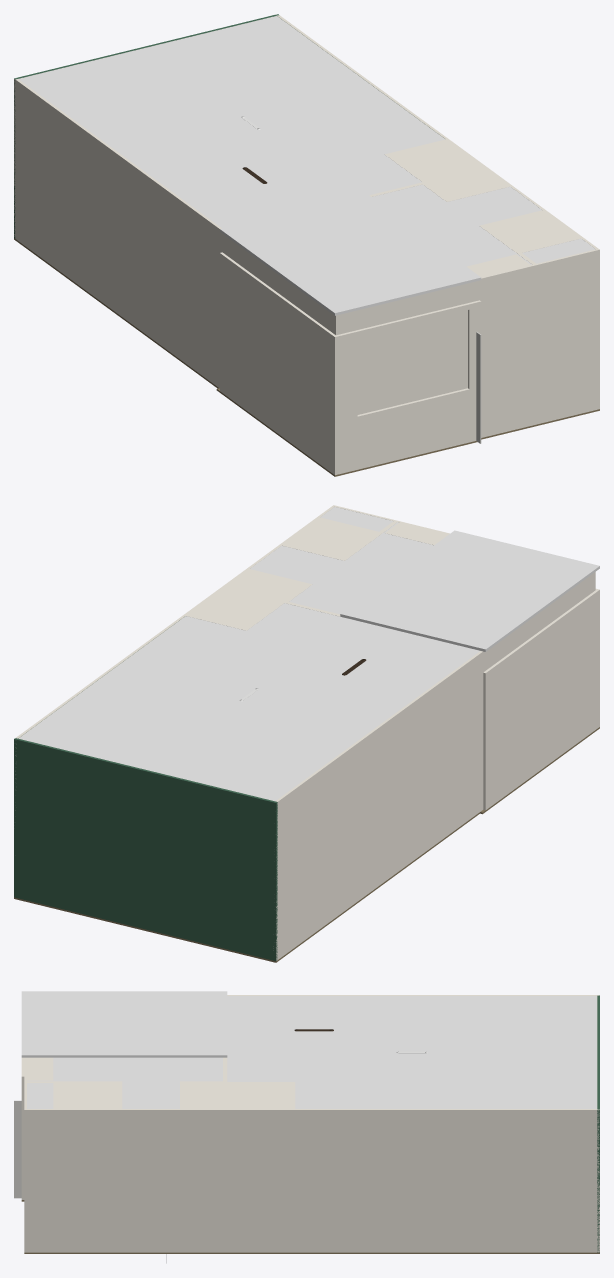
The model's file is huis.glb.
3 views of the same model, one above another, from view 1: azimuth 30°, elevation 25°; view 2: azimuth 150°, elevation 25°; view 3: azimuth 270°, elevation 25° (orthographic). The views are drawn at different scales.
Visible parts, largest first — view 1: EXPORT plafond, BG linkermuur, BG voorgevel, plafond, rechterwand, achterwand, BG kastwand extra, achterwand.003, BG toiletwand, BG kastwand, BG rechtermuur, achterwand.001 (+6 smaller); view 2: EXPORT plafond, BG achtergevel, BG linkermuur, plafond, rechterwand, BG kastwand extra, BG toiletwand, BG kastwand, BG vloer, BG rechtermuur, BG mkwand, BG schoonmaakkastwand v2 (+1 smaller); view 3: BG rechtermuur, EXPORT plafond, plafond, BG kastwand extra, BG kastwand, BG toiletwand, BG vloer, BG schoonmaakkastdeur v2, BG achtergevel, BG schoonmaakkastwand v2, BG mkwand, BG linkermuur.
Part boxes in pixels (x1,y1,x2,y2): EXPORT plafond: (18, 16, 595, 266); BG linkermuur: (14, 79, 338, 388); BG voorgevel: (334, 249, 599, 437); plafond: (220, 193, 481, 315); rechterwand: (220, 252, 339, 474); achterwand: (332, 388, 476, 474); BG kastwand extra: (384, 139, 483, 182); achterwand.003: (332, 337, 357, 421); BG toiletwand: (481, 210, 568, 243); BG kastwand: (423, 167, 509, 200); BG rechtermuur: (276, 14, 599, 409); achterwand.001: (332, 300, 481, 342); EXPORT plafond: (18, 507, 479, 800); BG achtergevel: (14, 738, 277, 960); BG linkermuur: (273, 572, 595, 960); plafond: (340, 530, 599, 651); rechterwand: (483, 589, 599, 810); BG kastwand extra: (186, 588, 283, 630); BG toiletwand: (282, 526, 368, 560); BG kastwand: (224, 569, 308, 602); BG vloer: (14, 812, 479, 962); BG rechtermuur: (15, 505, 335, 810); BG mkwand: (308, 517, 380, 540); BG schoonmaakkastwand v2: (385, 522, 448, 545); BG rechtermuur: (24, 1109, 599, 1252); EXPORT plafond: (27, 996, 596, 1108); plafond: (21, 991, 227, 1057); BG kastwand extra: (227, 1082, 295, 1108); BG kastwand: (180, 1082, 227, 1108); BG toiletwand: (75, 1082, 122, 1108); BG vloer: (24, 1252, 599, 1253); BG schoonmaakkastdeur v2: (14, 1100, 21, 1198); BG achtergevel: (597, 995, 599, 1252); BG schoonmaakkastwand v2: (27, 1057, 53, 1080); BG mkwand: (53, 1082, 75, 1108); BG linkermuur: (227, 995, 599, 995).
Bounding box in the file's own units: 5.25 × 3.47 × 11.18.
